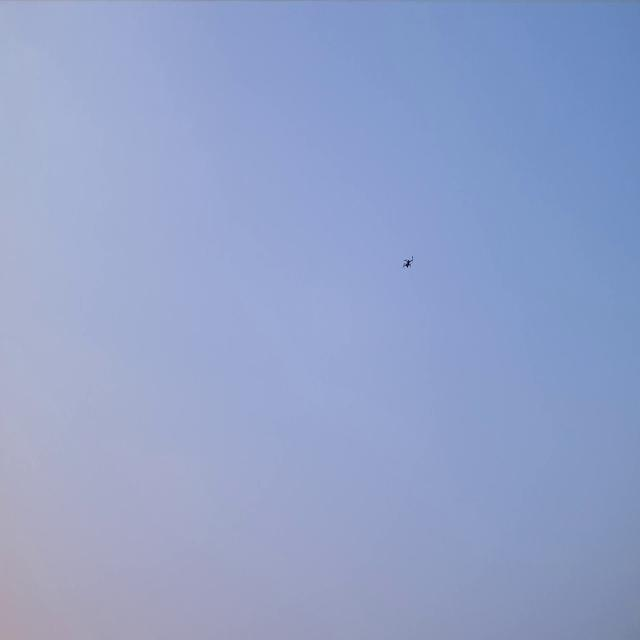UAV: (401, 255, 415, 271)
